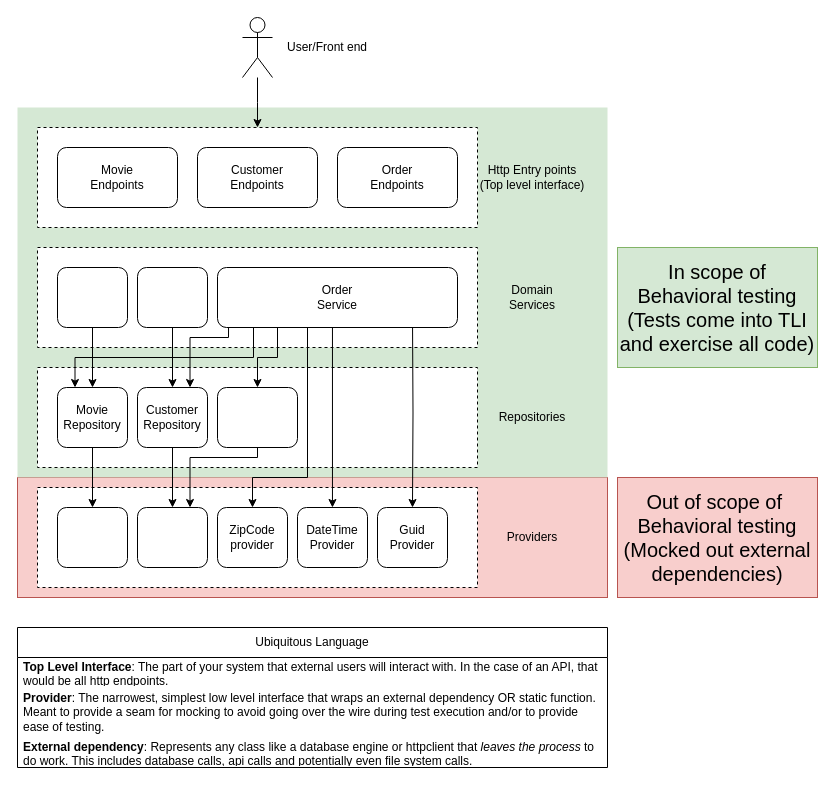
Image size: 835x785. Some labels were removed from this diagram. Here are the shapes that lost their labels. From the top down, the centre of each, then its label:
At pixel 92 297: "Movie Service".
At pixel 172 297: "Customer Service".
At pixel 257 417: "Order Repository".
At pixel 92 537: "Movie Provider".
At pixel 172 537: "LiteDb Provider".
